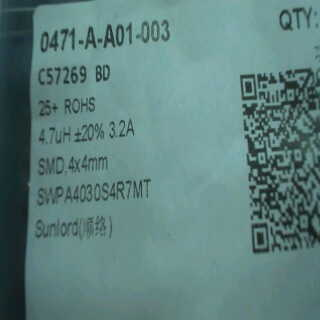4.7uH: (34, 120, 75, 147)
